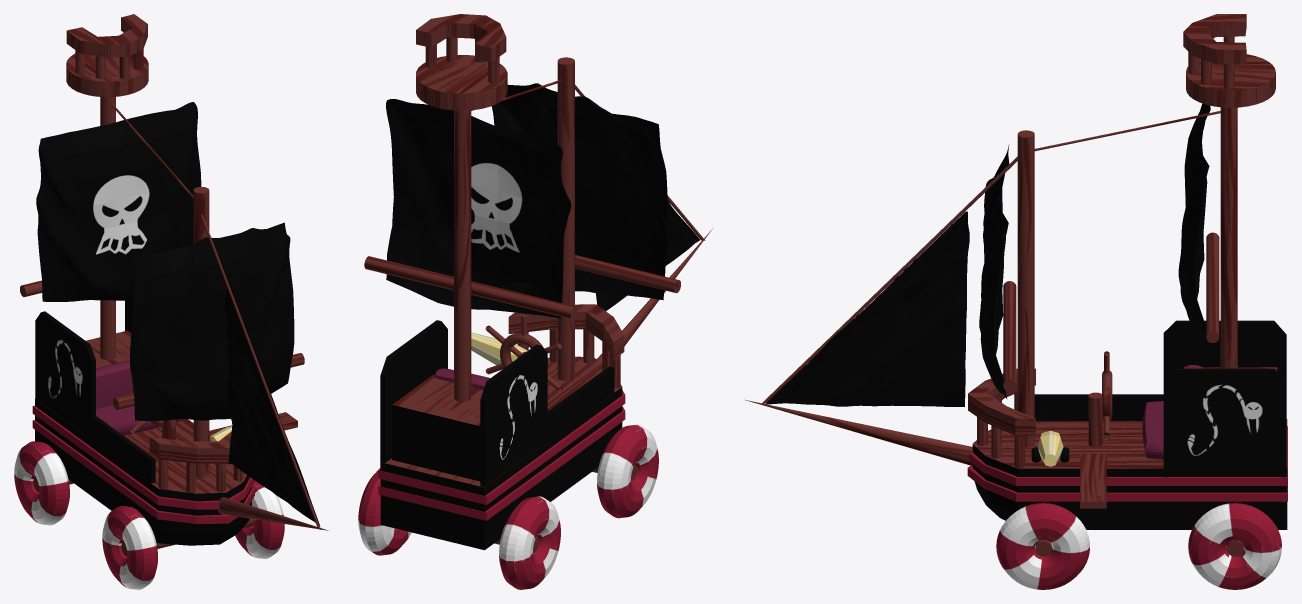
The model's file is PirateShipComplete.fbx.
3 renders of one model, left to right at view 1: azimuth 30°, elevation 25°; view 2: azimuth 150°, elevation 25°; view 3: azimuth 270°, elevation 25°, orthographic. The views are drawn at different scales.
Parts seen in each view (by area): view 1: Plane.001, Plane, Cube, Plane.002, Cylinder.020, Cube.003, Cylinder.015, Cube.011, Torus.003, Torus.004, Cylinder.001, Cube.009 (+2 smaller); view 2: Plane.001, Plane, Cylinder.015, Cube, Cube.003, Cylinder.020, Cube.005, Cube.011, Torus.003, Torus.004, Cylinder.001, Torus.002 (+2 smaller); view 3: Plane.002, Cylinder.015, Cube.003, Cube, Cylinder.020, Torus.002, Torus.001, Cube.011, Cylinder.001, Plane.001, Plane, Cube.009 (+1 smaller).
Boxes of the visible parts, bbox=[...] form: Plane.001: bbox=[36, 102, 201, 301]; Plane: bbox=[130, 222, 294, 420]; Cube: bbox=[35, 398, 251, 545]; Plane.002: bbox=[224, 287, 320, 526]; Cylinder.020: bbox=[66, 14, 320, 529]; Cube.003: bbox=[35, 300, 133, 439]; Cylinder.015: bbox=[20, 97, 328, 556]; Cube.011: bbox=[32, 405, 254, 523]; Torus.003: bbox=[14, 441, 69, 525]; Torus.004: bbox=[102, 506, 157, 589]; Cylinder.001: bbox=[149, 412, 297, 492]; Cube.009: bbox=[96, 360, 183, 435]; Plane.001: bbox=[386, 99, 571, 318]; Plane: bbox=[491, 83, 667, 300]; Cylinder.015: bbox=[364, 57, 712, 552]; Cube: bbox=[380, 356, 622, 550]; Cube.003: bbox=[380, 320, 547, 487]; Cylinder.020: bbox=[416, 14, 705, 240]; Cube.005: bbox=[392, 375, 483, 481]; Cube.011: bbox=[378, 390, 625, 520]; Torus.003: bbox=[499, 496, 560, 589]; Torus.004: bbox=[597, 424, 658, 518]; Cylinder.001: bbox=[449, 304, 624, 388]; Torus.002: bbox=[358, 468, 411, 555]; Plane.002: bbox=[765, 211, 969, 406]; Cylinder.015: bbox=[744, 107, 1243, 556]; Cube.003: bbox=[1163, 320, 1286, 477]; Cube: bbox=[972, 394, 1287, 529]; Cylinder.020: bbox=[762, 14, 1275, 403]; Torus.002: bbox=[1188, 503, 1281, 589]; Torus.001: bbox=[996, 503, 1089, 589]; Cube.011: bbox=[967, 426, 1287, 501]; Cylinder.001: bbox=[968, 368, 1106, 508]; Plane.001: bbox=[1178, 103, 1210, 343]; Plane: bbox=[979, 144, 1009, 398]; Cube.009: bbox=[1142, 365, 1202, 459].
Size of the model in its own units: 501 by 1075 by 1016.
17 materials, 17 textured.
